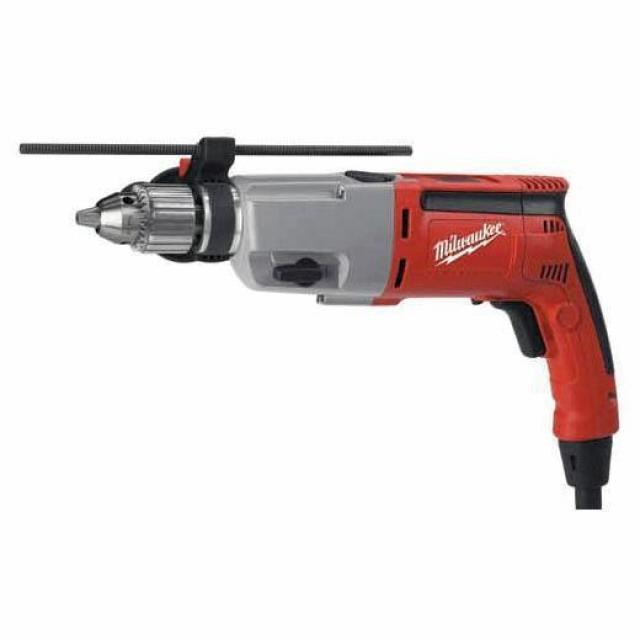drill: (77, 170, 620, 511)
